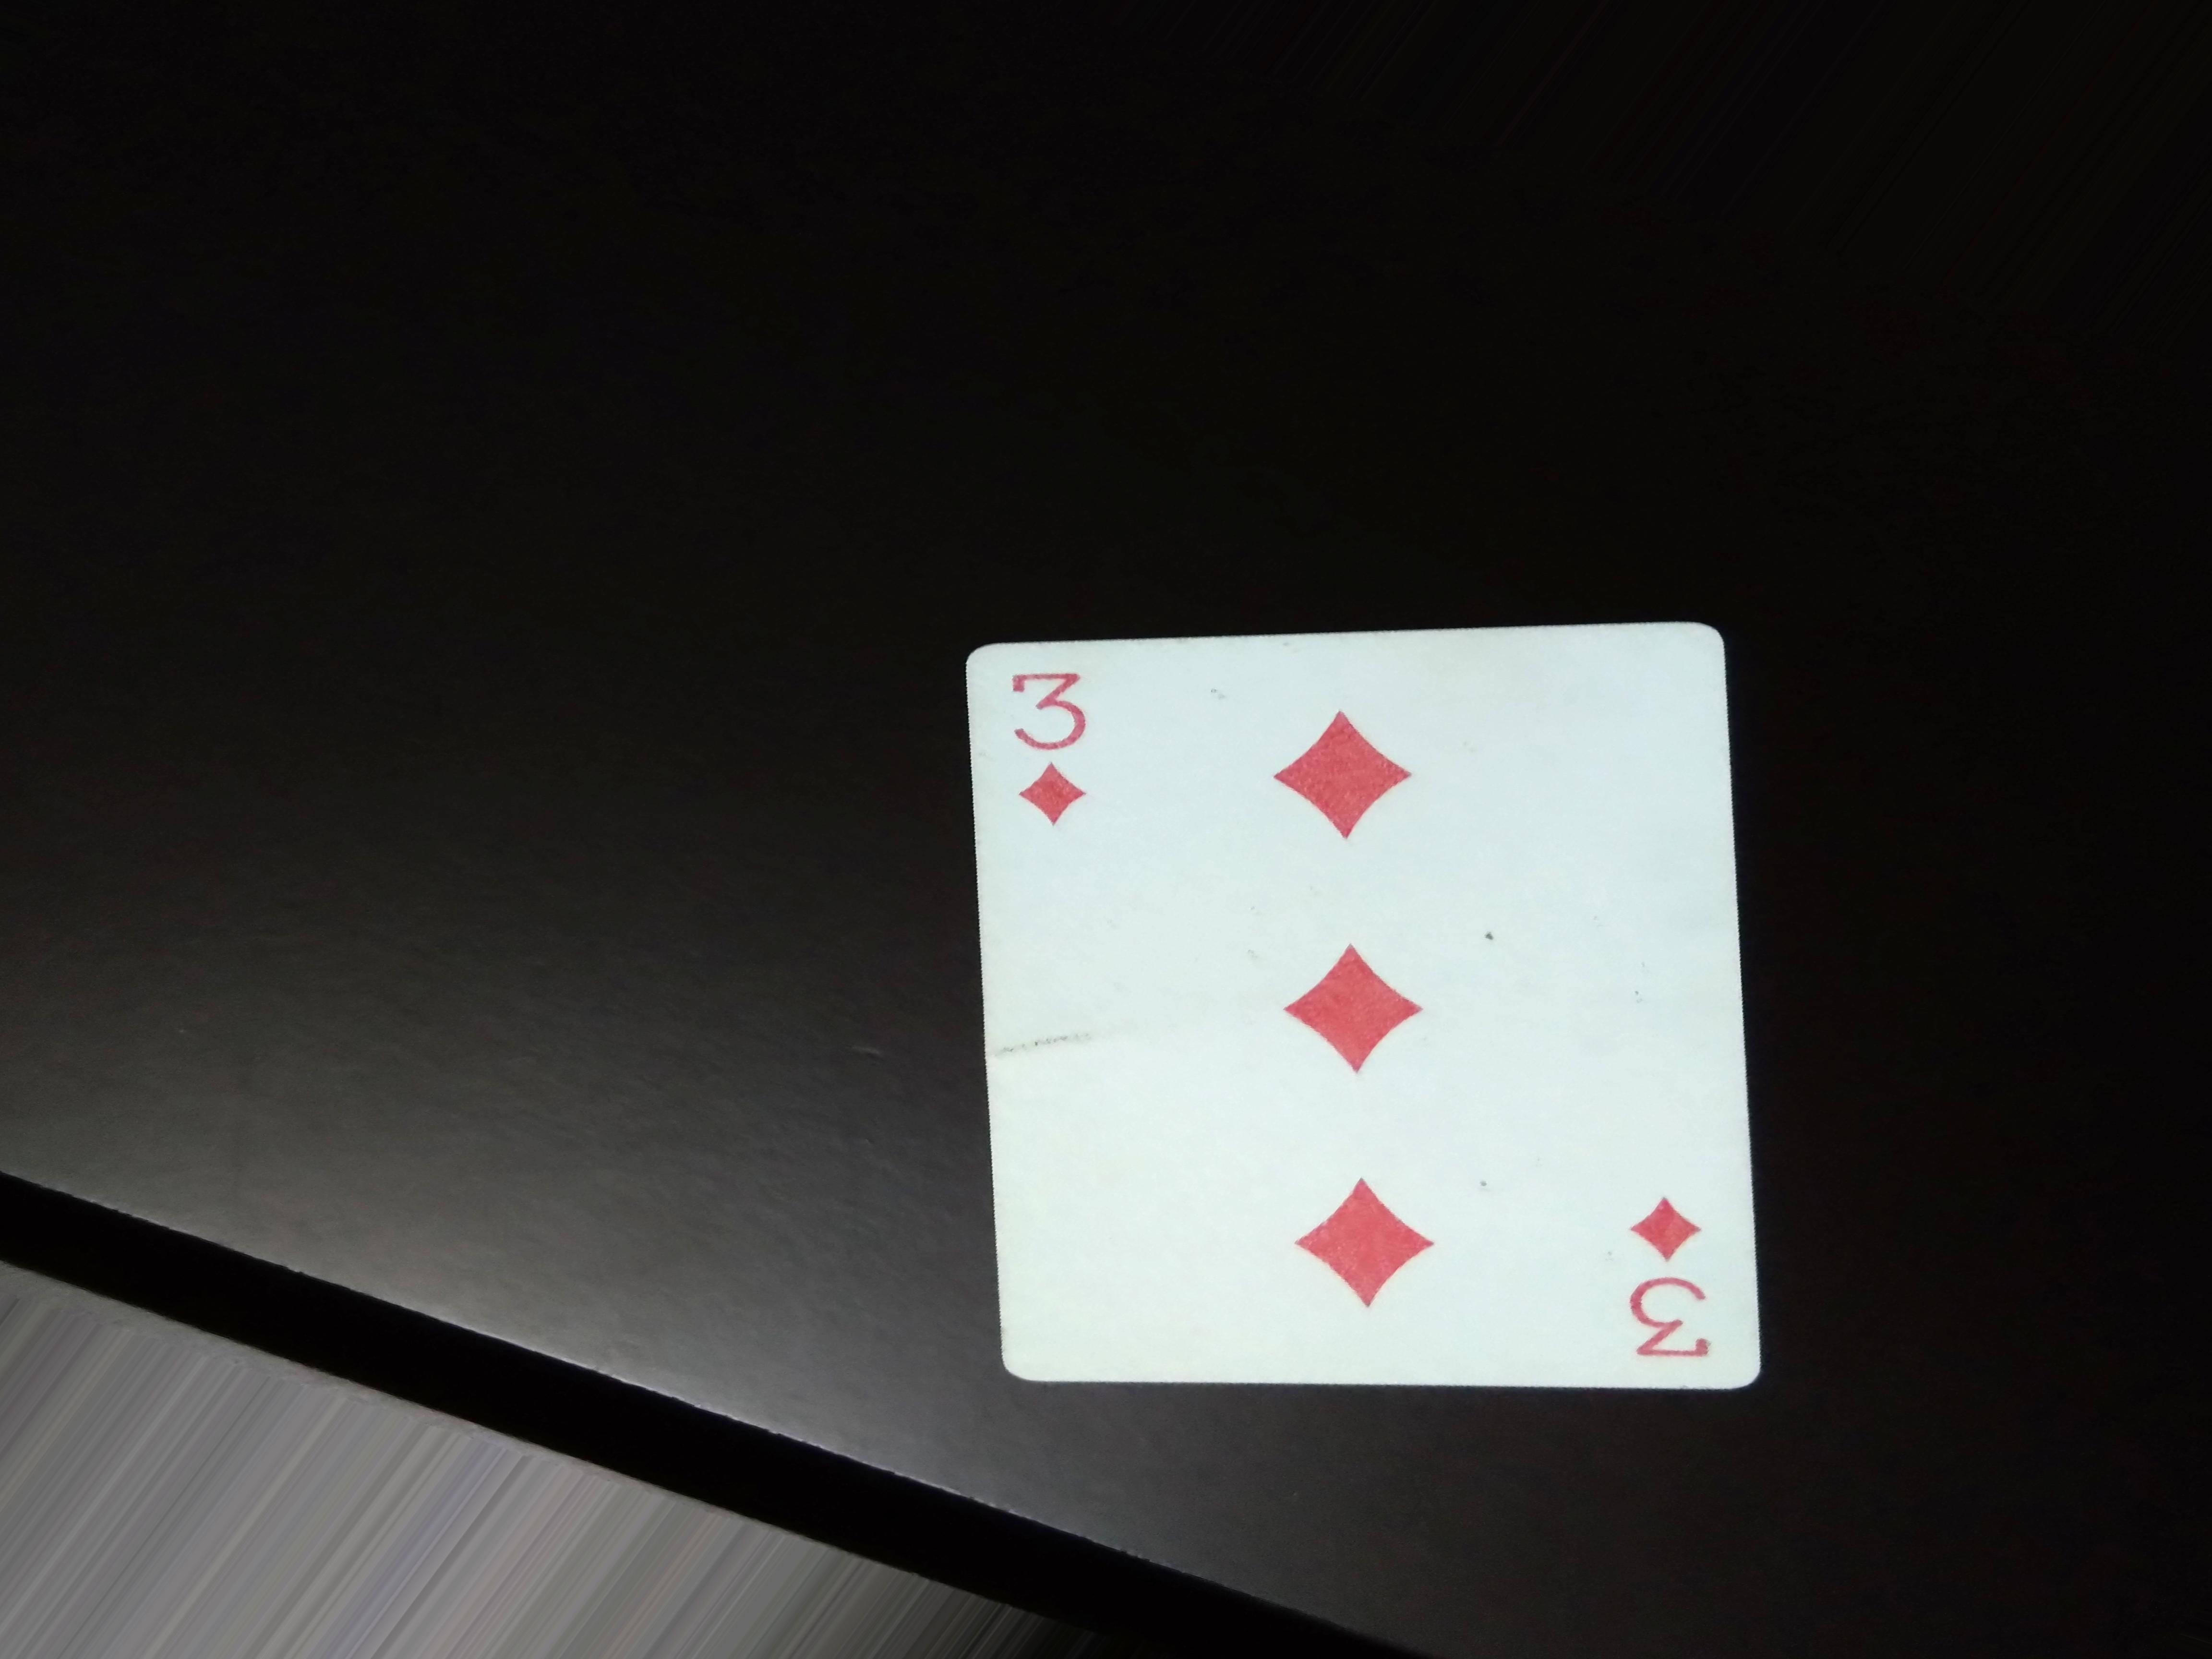3D: (1608, 1187, 1745, 1370)
